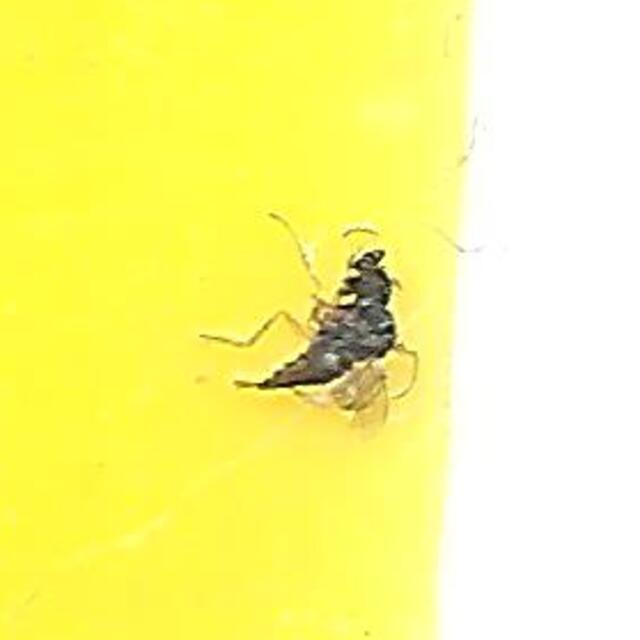Brachycera: (229, 229, 411, 411)
